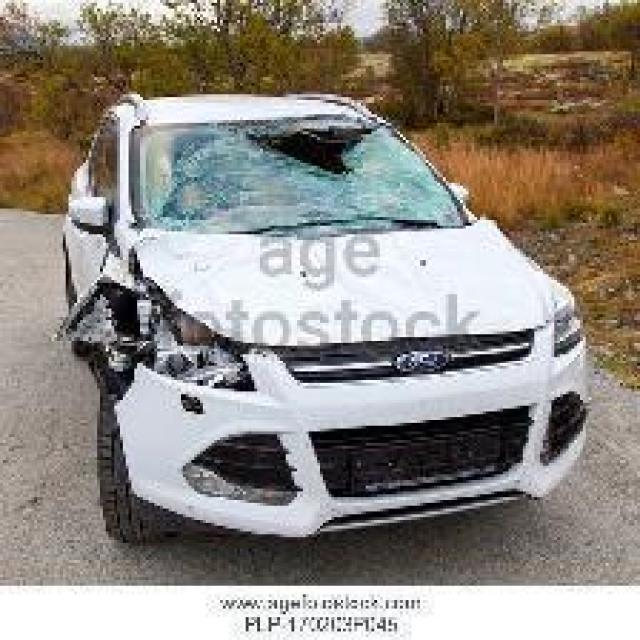damaged: (60, 274, 266, 449), (154, 123, 460, 226)
